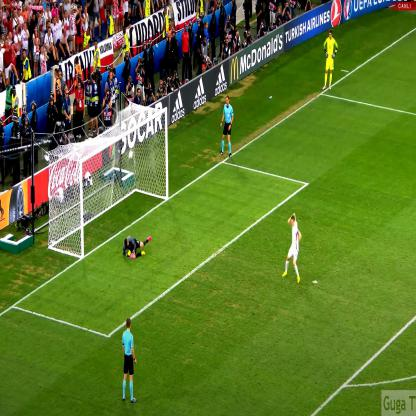goal: (50, 114, 184, 302)
